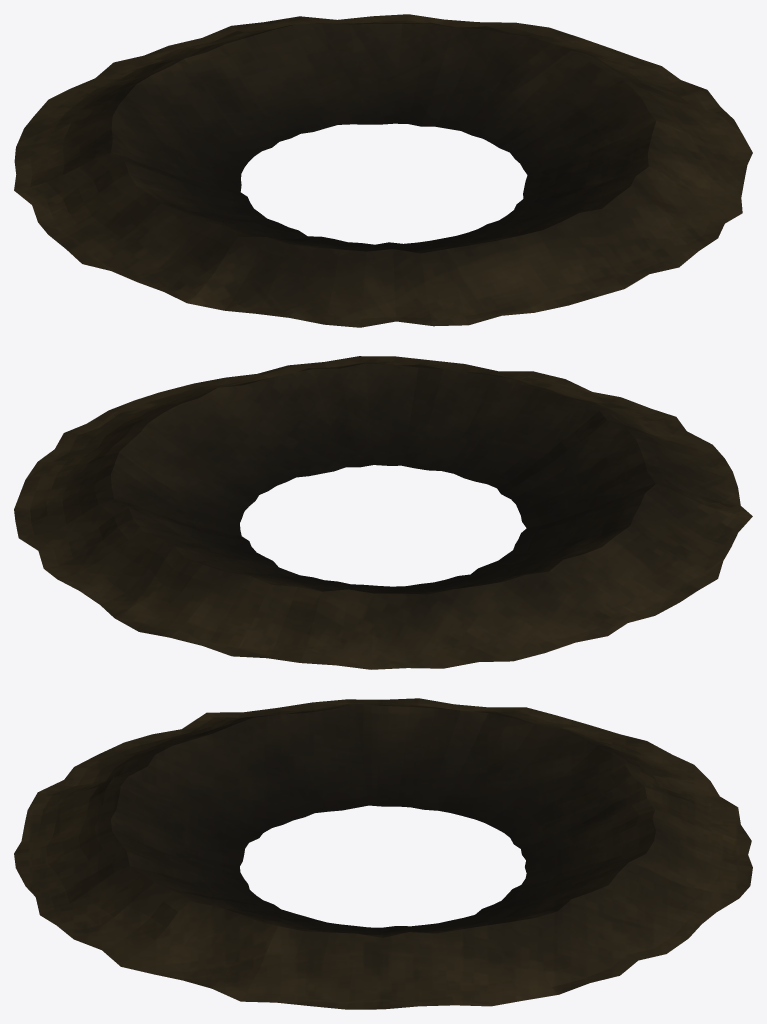
The model's file is mun_crater.glb.
3 renders of one model, top to bottom at view 1: azimuth 30°, elevation 25°; view 2: azimuth 150°, elevation 25°; view 3: azimuth 270°, elevation 25°, orthographic.
Visible parts, largest first — view 1: mun_crater; view 2: mun_crater; view 3: mun_crater.
Part boxes in pixels (x1,y1,x2,y2): mun_crater: [14, 14, 752, 327]; mun_crater: [14, 356, 752, 669]; mun_crater: [14, 698, 752, 1009].
Bounding box in the file's own units: 2.82 × 0.2055 × 2.8.
1 material, 1 textured.
